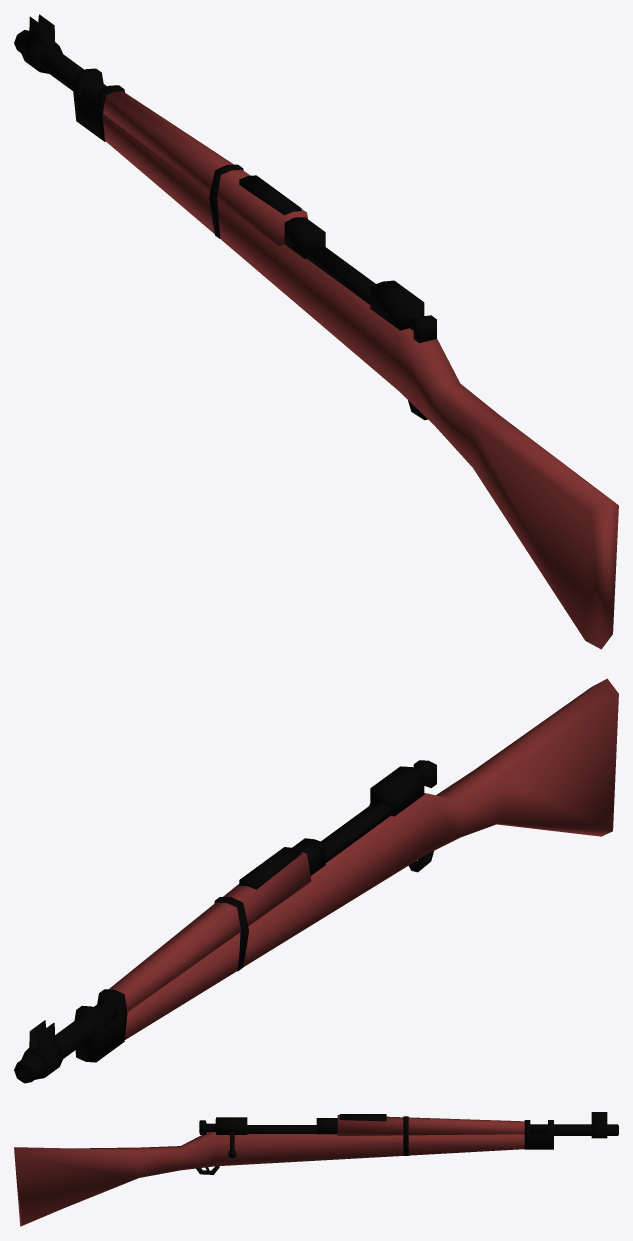
The picture shows the model from 3 angles, top to bottom: view 1: azimuth 30°, elevation 25°; view 2: azimuth 150°, elevation 25°; view 3: azimuth 270°, elevation 25°; orthographic projection. The views are drawn at different scales.
Parts seen in each view (by area): view 1: Cube; view 2: Cube; view 3: Cube.
Part boxes in pixels (x1,y1,x2,y2): Cube: [14, 14, 618, 649]; Cube: [14, 678, 618, 1083]; Cube: [14, 1112, 618, 1226].
Size of the model in its own units: 191 by 756 by 3651.
